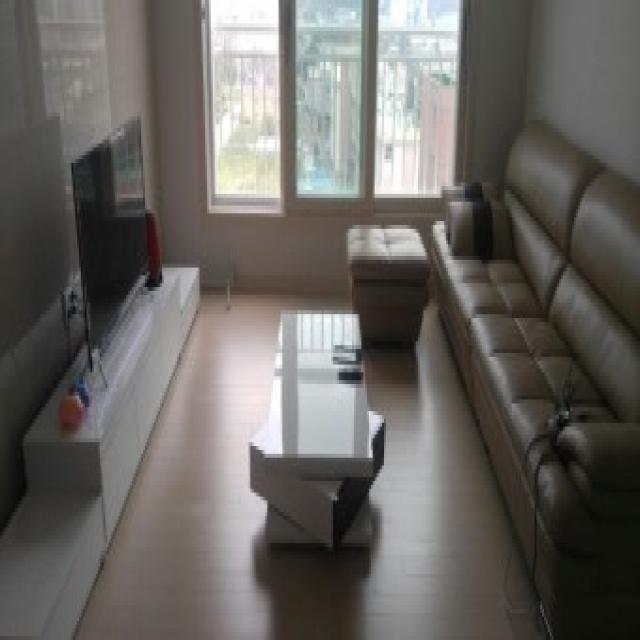Sofa: (435, 113, 640, 636)
Table: (252, 302, 388, 563)
tv: (70, 115, 154, 373)
window: (204, 6, 455, 204)
